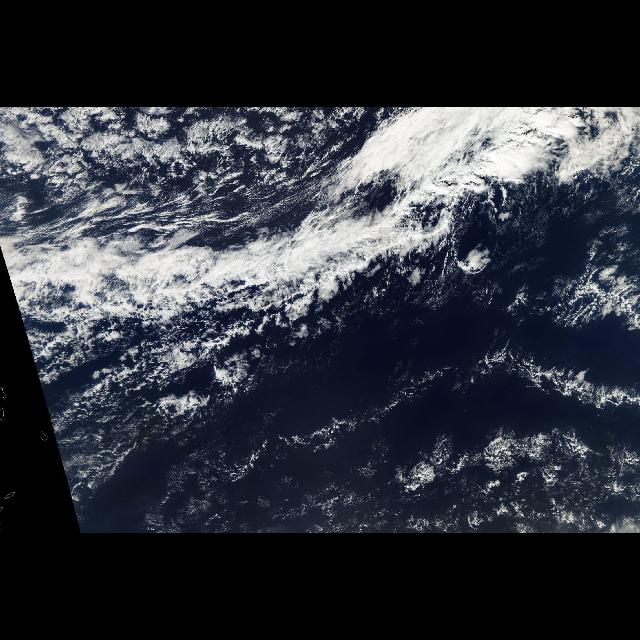Fish: (5, 108, 637, 322), (495, 342, 639, 420)
Sugar: (270, 465, 640, 533)
